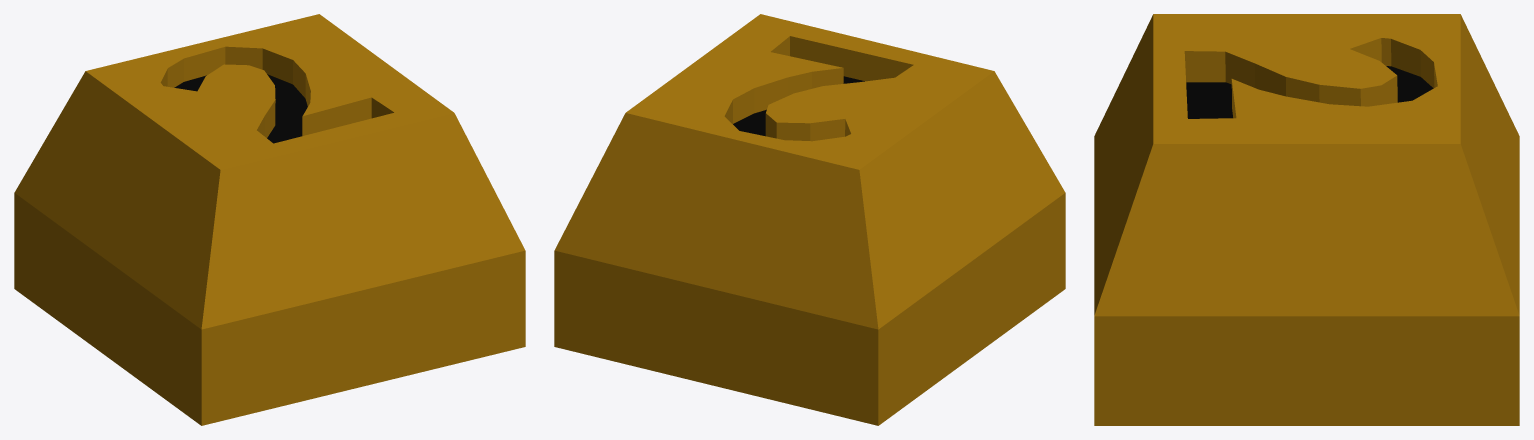
The model's file is Numero2.fbx.
The picture shows the model from 3 angles, left to right: view 1: azimuth 30°, elevation 25°; view 2: azimuth 150°, elevation 25°; view 3: azimuth 270°, elevation 25°; orthographic projection. The views are drawn at different scales.
Visible parts, largest first — view 1: Cubo2; view 2: Cubo2; view 3: Cubo2.
Part boxes in pixels (x1,y1,x2,y2): Cubo2: (14,14,525,425); Cubo2: (554,14,1065,425); Cubo2: (1094,14,1519,425).
Bounding box in the file's own units: 15 × 10 × 15.
